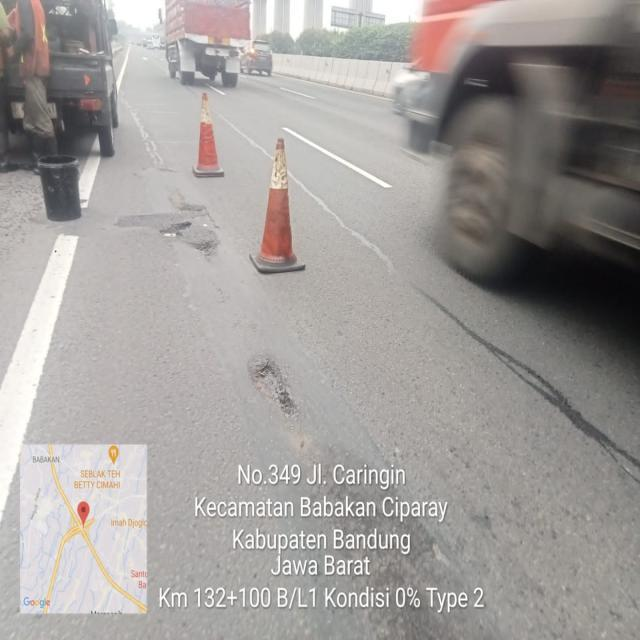Buraco: (246, 353, 304, 421), (158, 220, 194, 240), (0, 160, 37, 175)
